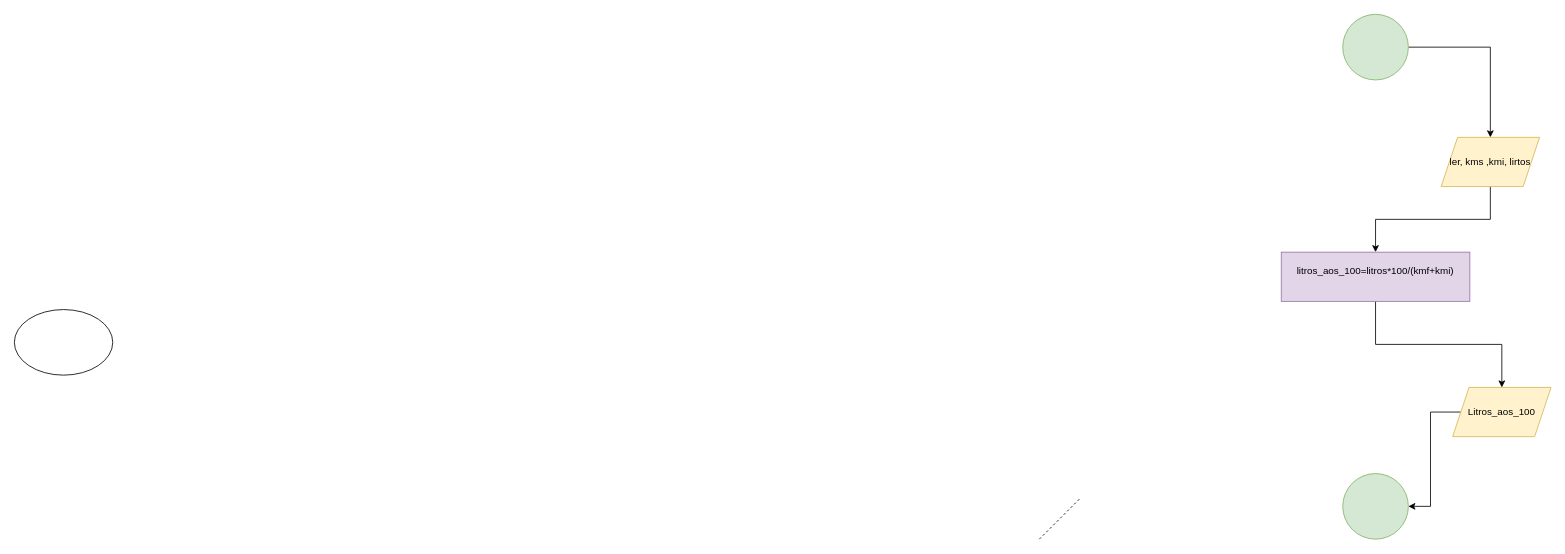
Some shapes in this 1565 by 554 pixel diagram are drawn without their labels. The shapes that lost their labels are listed below. From the top down, each one's centre as x and y in pixels, then its label:
(x=1375, y=47): Início
(x=1375, y=506): Fim
